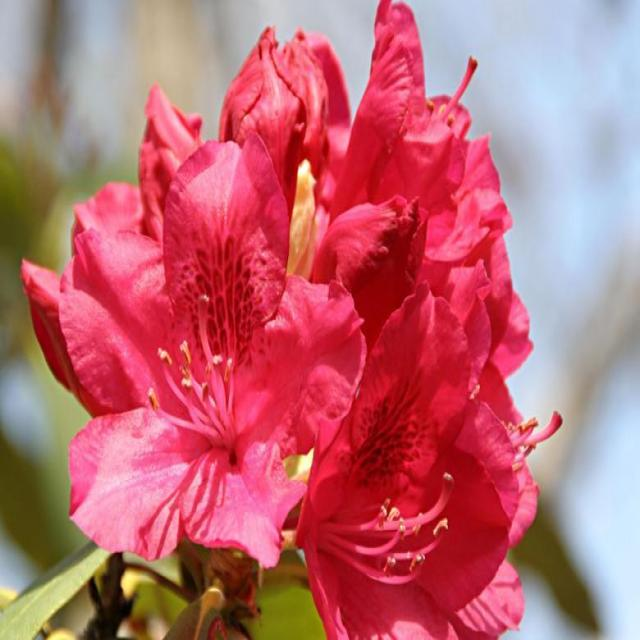azalea: (69, 174, 349, 584), (297, 324, 512, 640)
